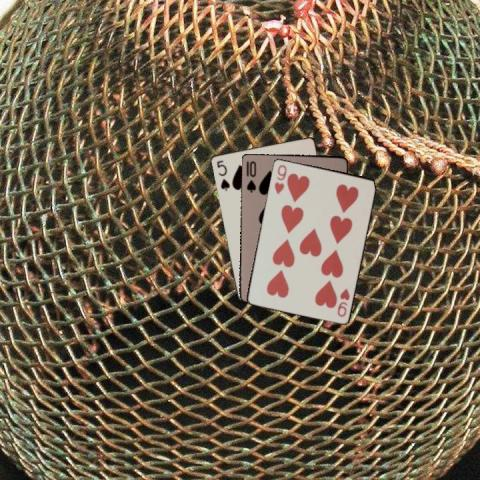10s: (244, 158, 257, 193)
5s: (213, 157, 231, 192)
9h: (271, 162, 288, 196), (334, 285, 351, 318)
